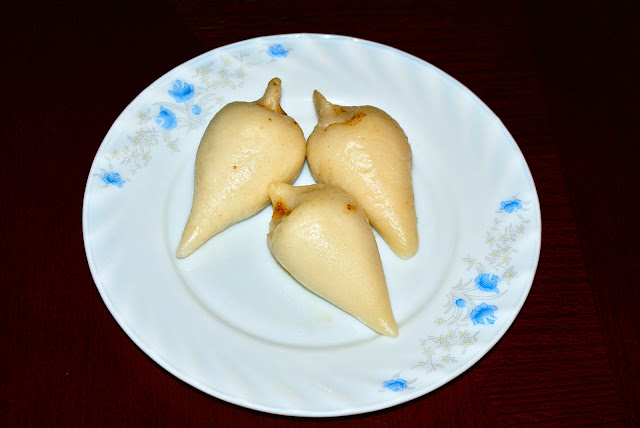yomari: (169, 81, 306, 258), (304, 82, 437, 258), (262, 178, 404, 340)
